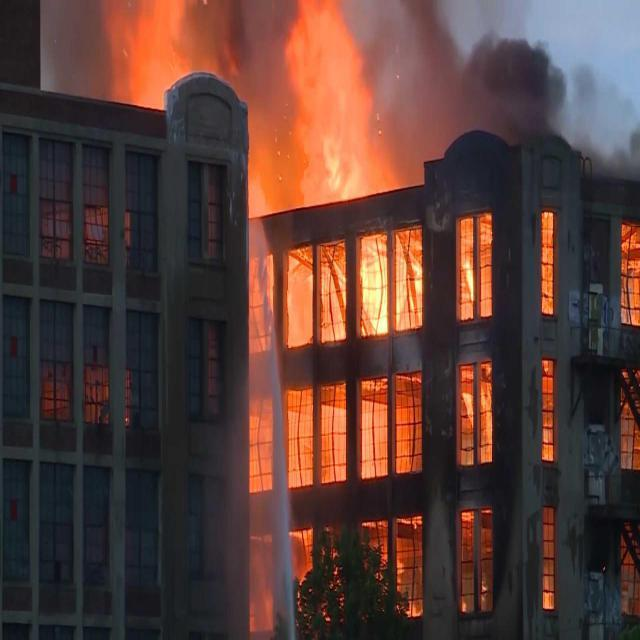Fire: (248, 36, 608, 584)
